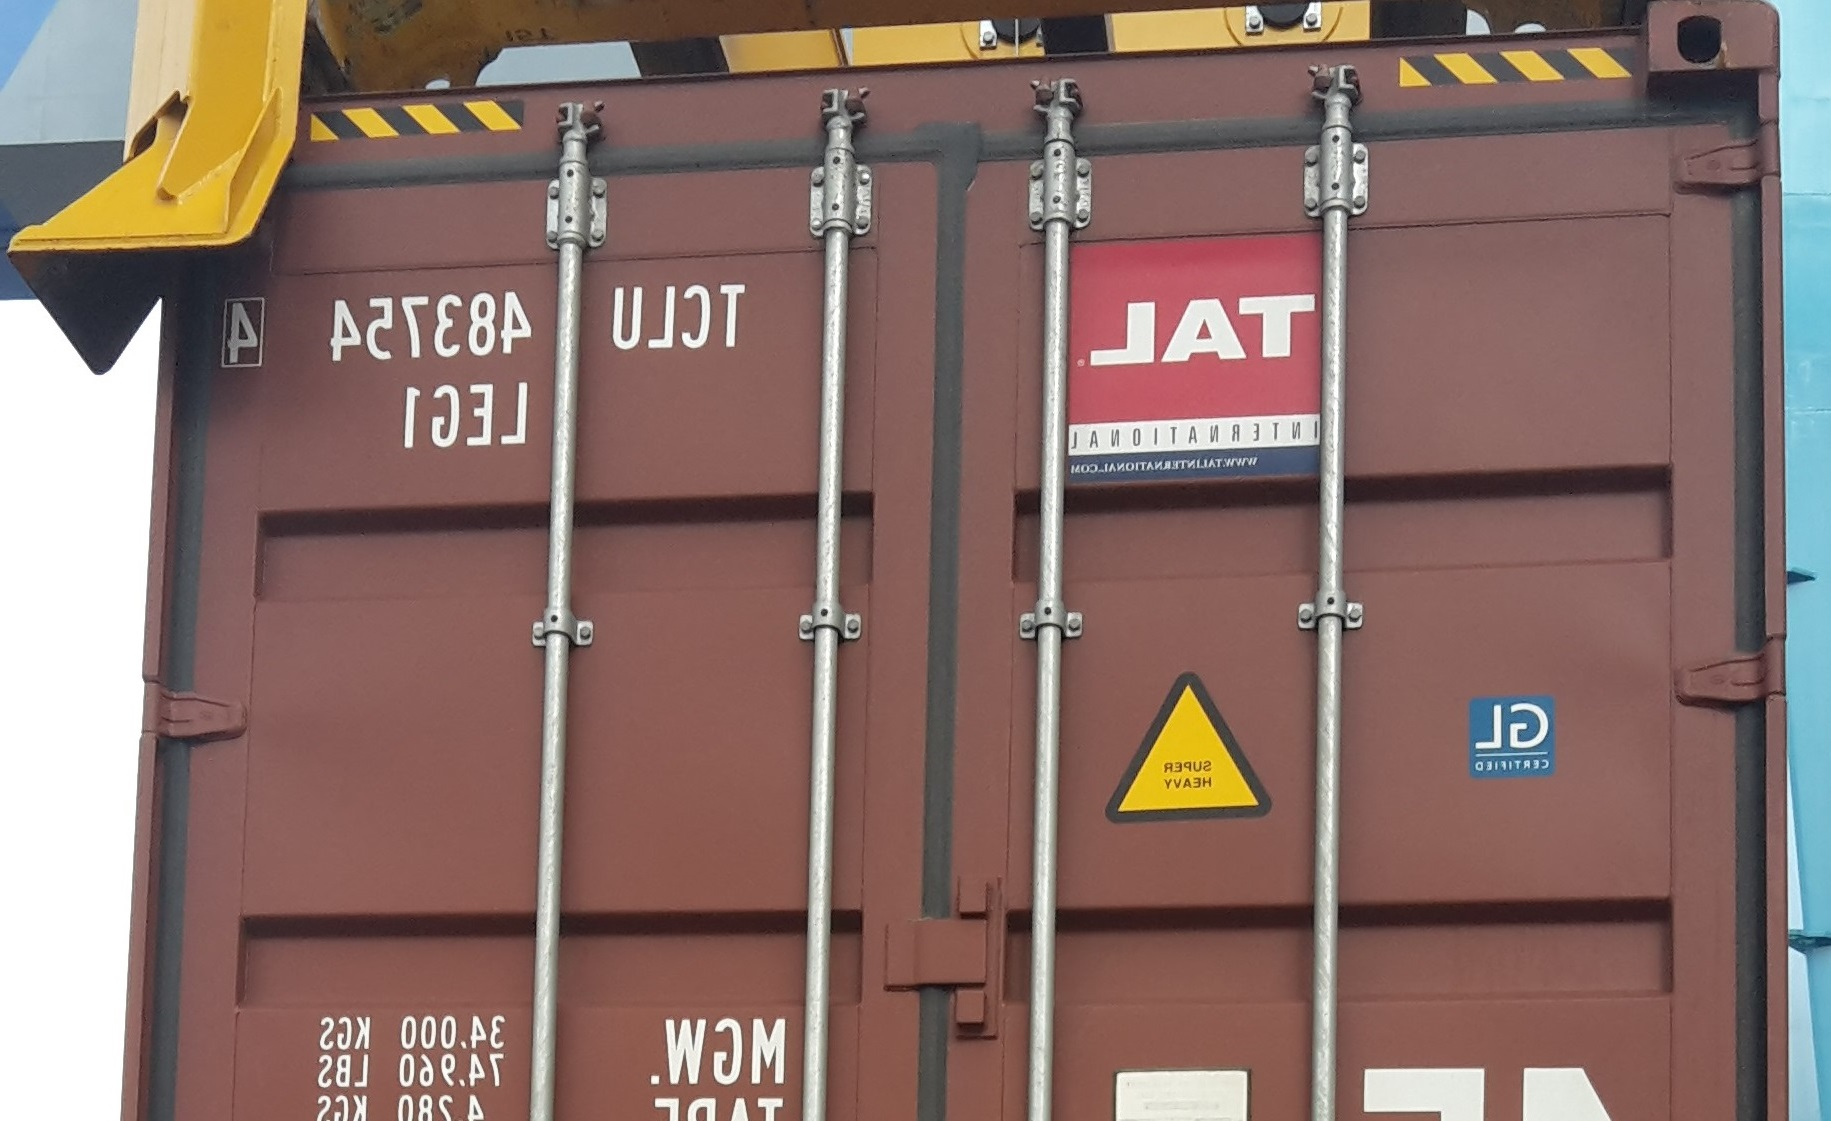container_door: (137, 4, 1783, 1120)
